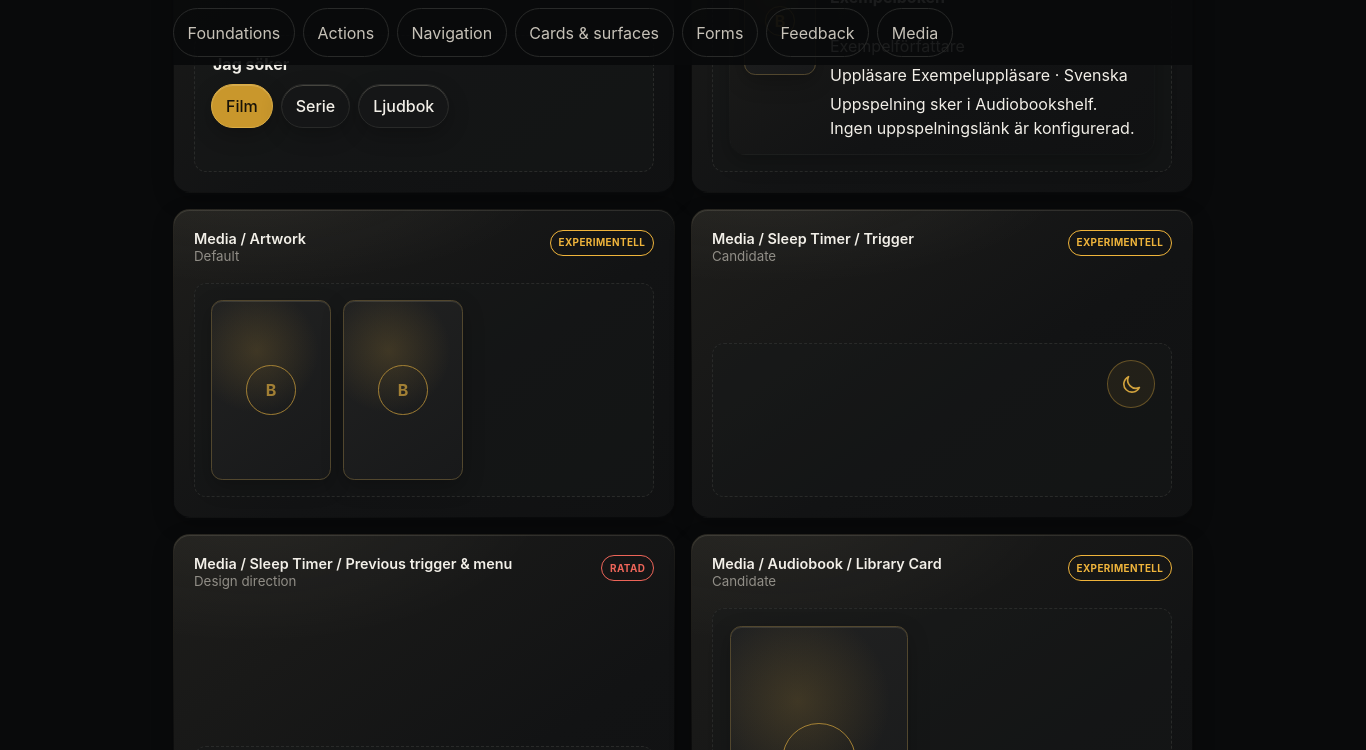
Test: UX/UI Lab › keeps the accessible timer candidate local
This screenshot has width=1366, height=750.
(page scrolled)
Click the button named "Öppna sovtimerkandidat" at (1131, 384), box x1=1107 y1=360 x2=1155 y2=408
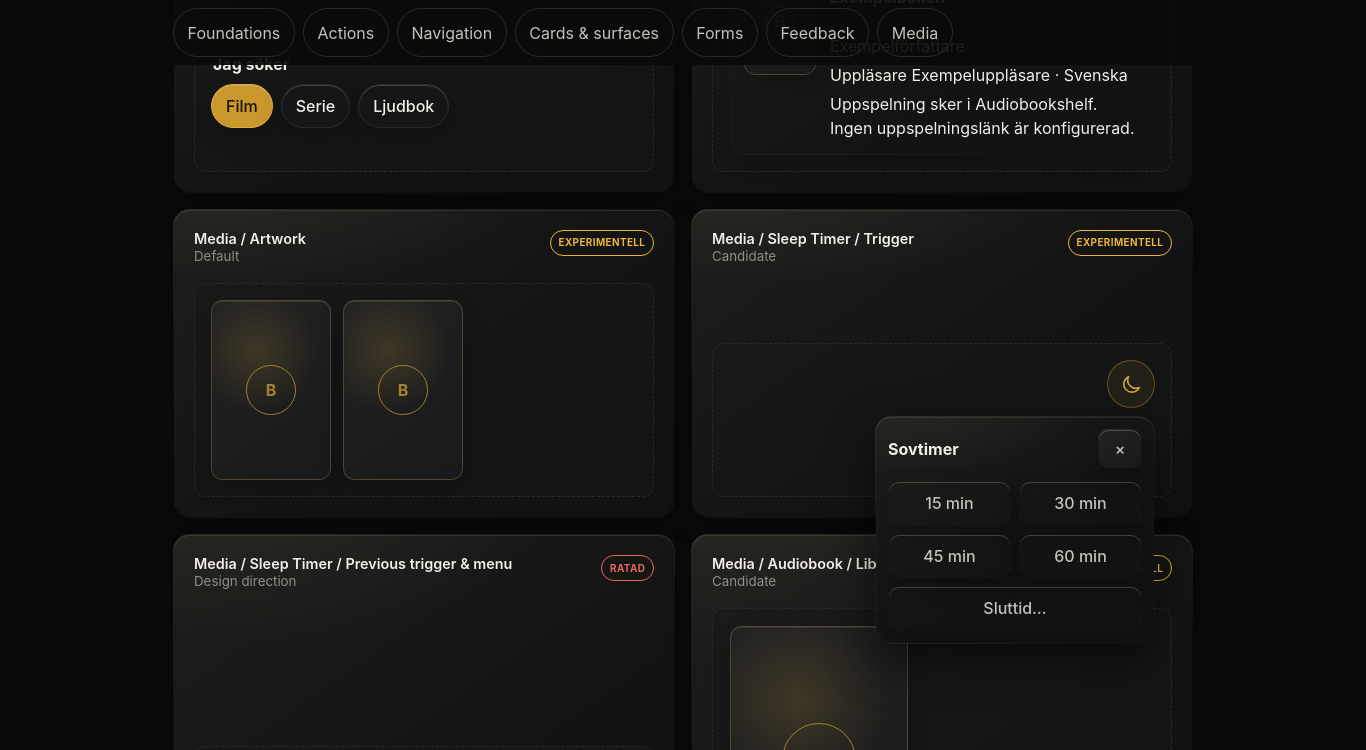
Click the button "30 min" at (1080, 503), box x1=1019 y1=481 x2=1142 y2=526
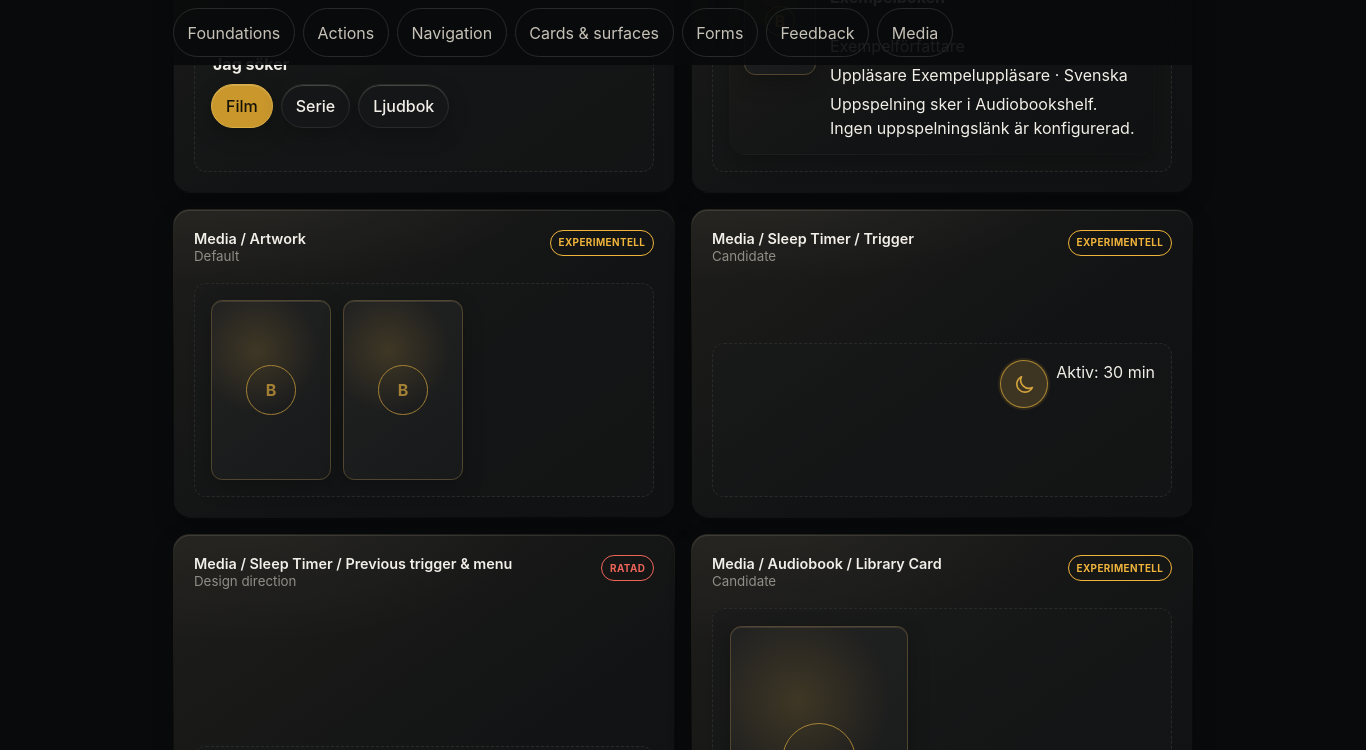
expect the text "Aktiv: 30 min" is shown: met, box x1=1056 y1=360 x2=1155 y2=384
